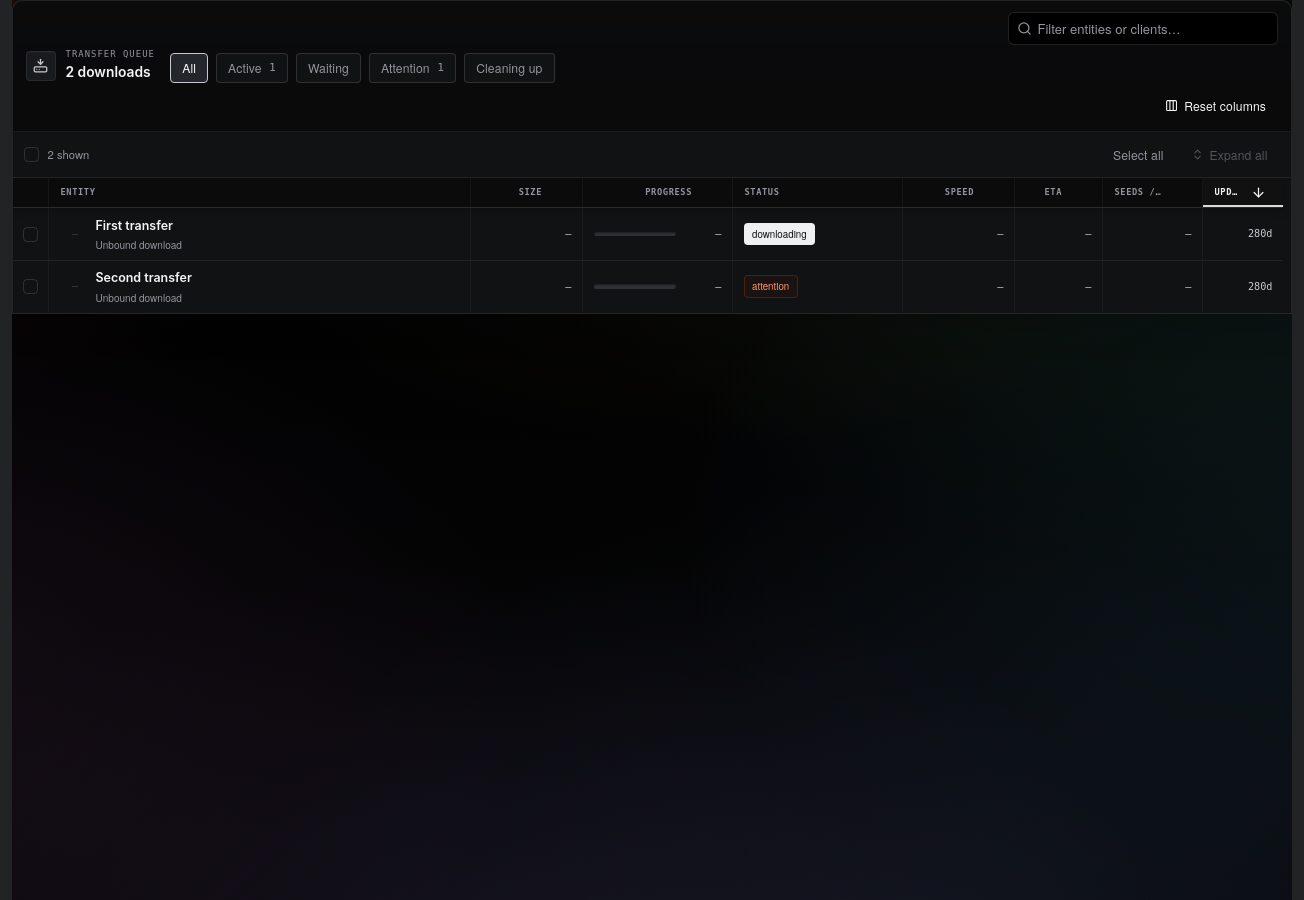
Test case: DownloadManagerTable › clears text filtering without changing the selected download status
The width and height of the screenshot is (1304, 900).
Click the radio button labelled "Attention 1": (413, 68) top-left (369, 53), bottom-right (456, 83)
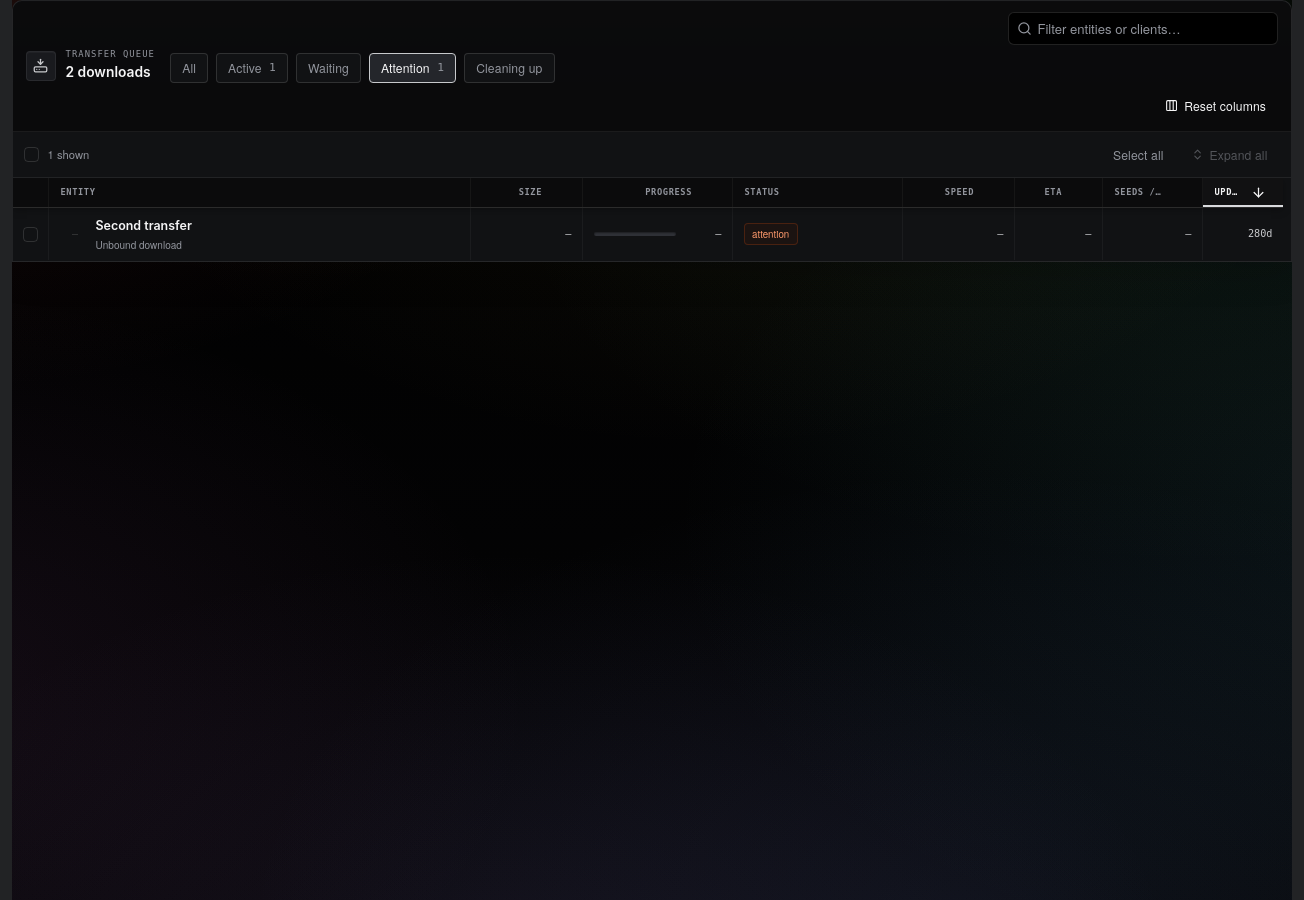
In the search field named "Filter downloads": (1155, 28) top-left (1032, 12), bottom-right (1277, 45), type "no matches"
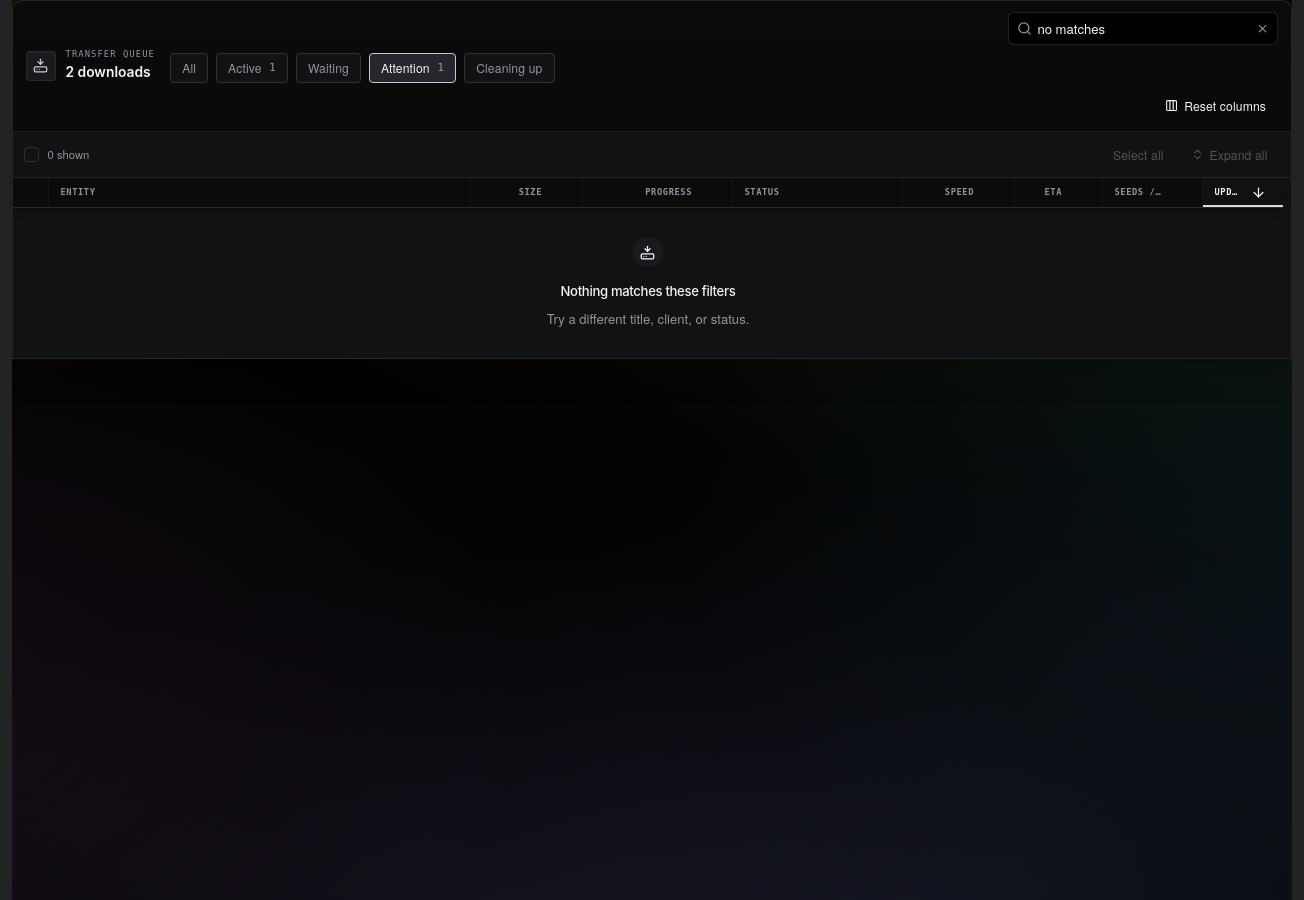
Click the button named "Clear search": (1263, 28) top-left (1252, 17), bottom-right (1274, 40)
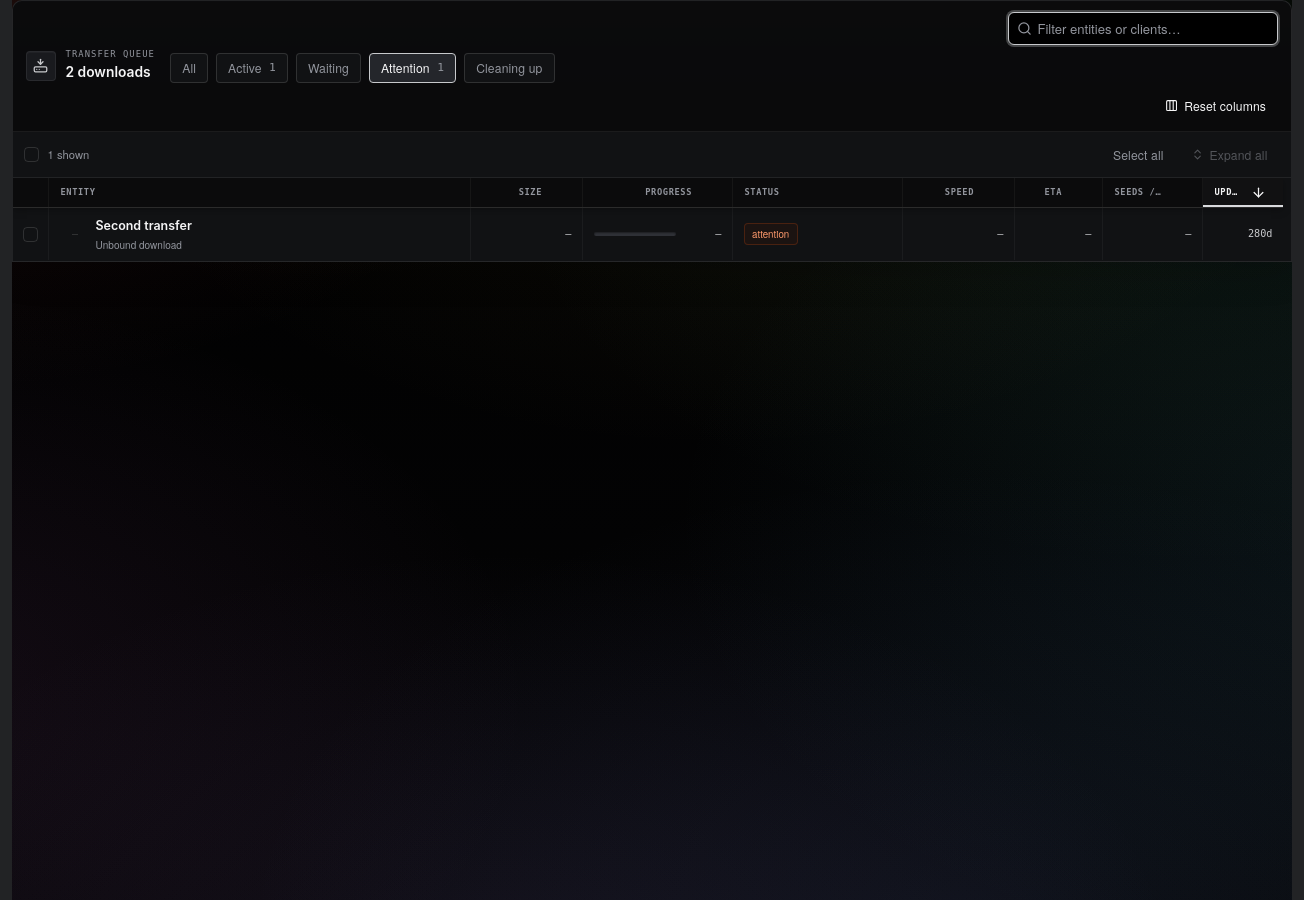
Expected: the search field named "Filter downloads" is empty, top-left (1032, 12), bottom-right (1277, 45)
Expected: the button named "Inspect Second transfer" is shown, top-left (13, 208), bottom-right (1283, 260)
